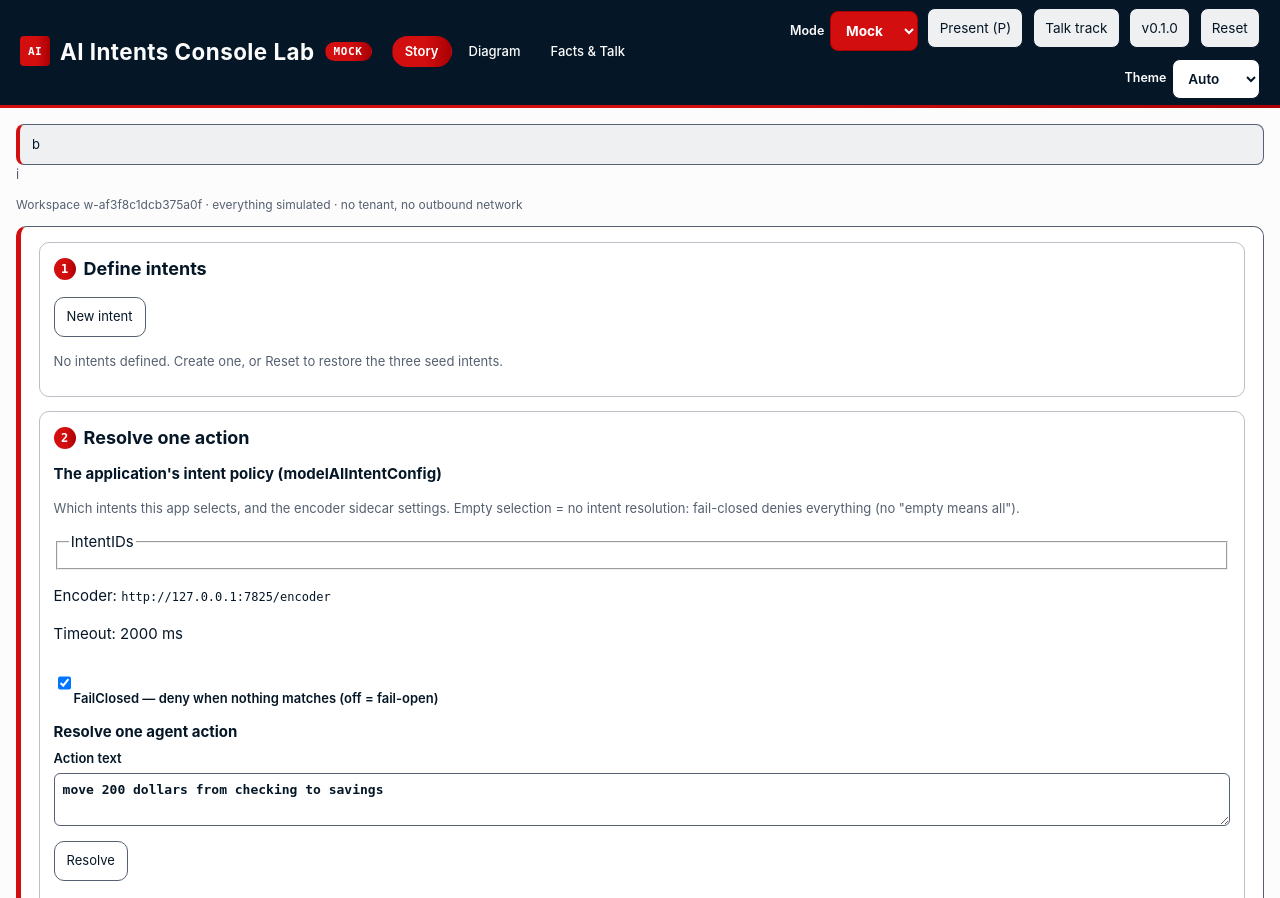
Test: real-mode resolve result › mock hops keep the existing checked styling
The image size is (1280, 898).
Expected: the element with test id "banner" showing "b i" is shown, 16,124 -> 1264,184
What coordinates should you click on to do the following:
click the button with test id "resolve-run"
I would click on:
 (91, 861)
Its box is 54,841 -> 128,881.
(page scrolled)
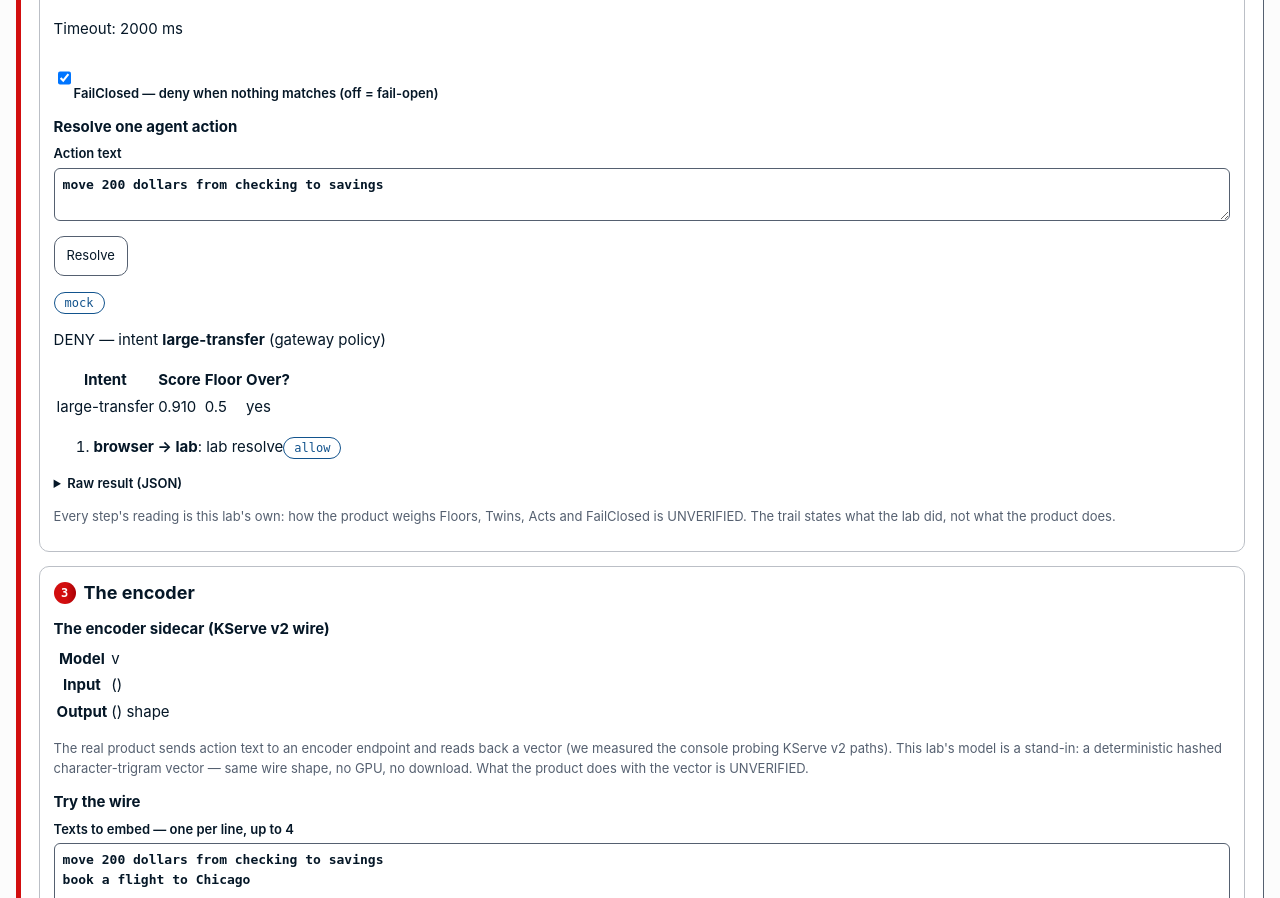
Expected: the element with test id "resolve-result" is shown, 54,291 -> 1230,526
Expected: the text with test id "resolve-source" reads "mock", 65,296 -> 94,310
